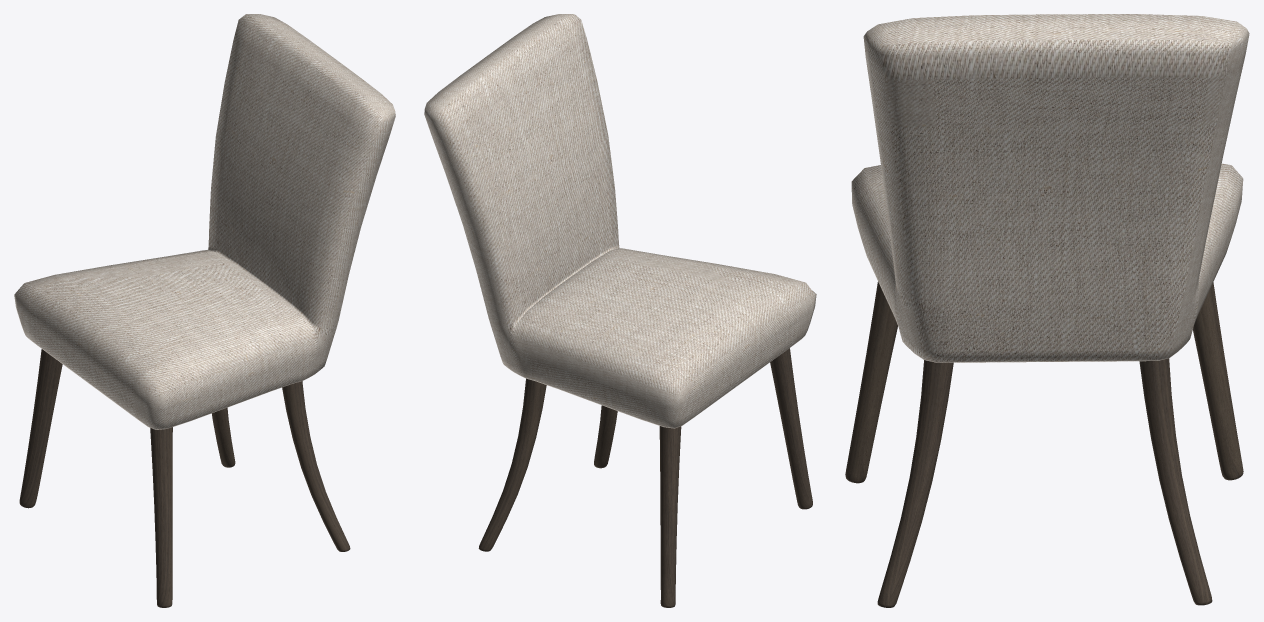
The model's file is silla.fbx.
3 renders of one model, left to right at view 1: azimuth 30°, elevation 25°; view 2: azimuth 150°, elevation 25°; view 3: azimuth 270°, elevation 25°, orthographic. The views are drawn at different scales.
Visible parts, largest first — view 1: cadeirajantar; view 2: cadeirajantar; view 3: cadeirajantar.
Part boxes in pixels (x1,y1,x2,y2): cadeirajantar: [14, 14, 395, 607]; cadeirajantar: [424, 14, 816, 607]; cadeirajantar: [845, 14, 1249, 607].
Bounding box in the file's own units: 55.49 × 90.63 × 54.02.
2 materials, 2 textured.
